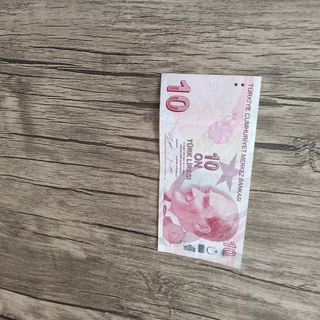10TLFront: (156, 72, 262, 269)
